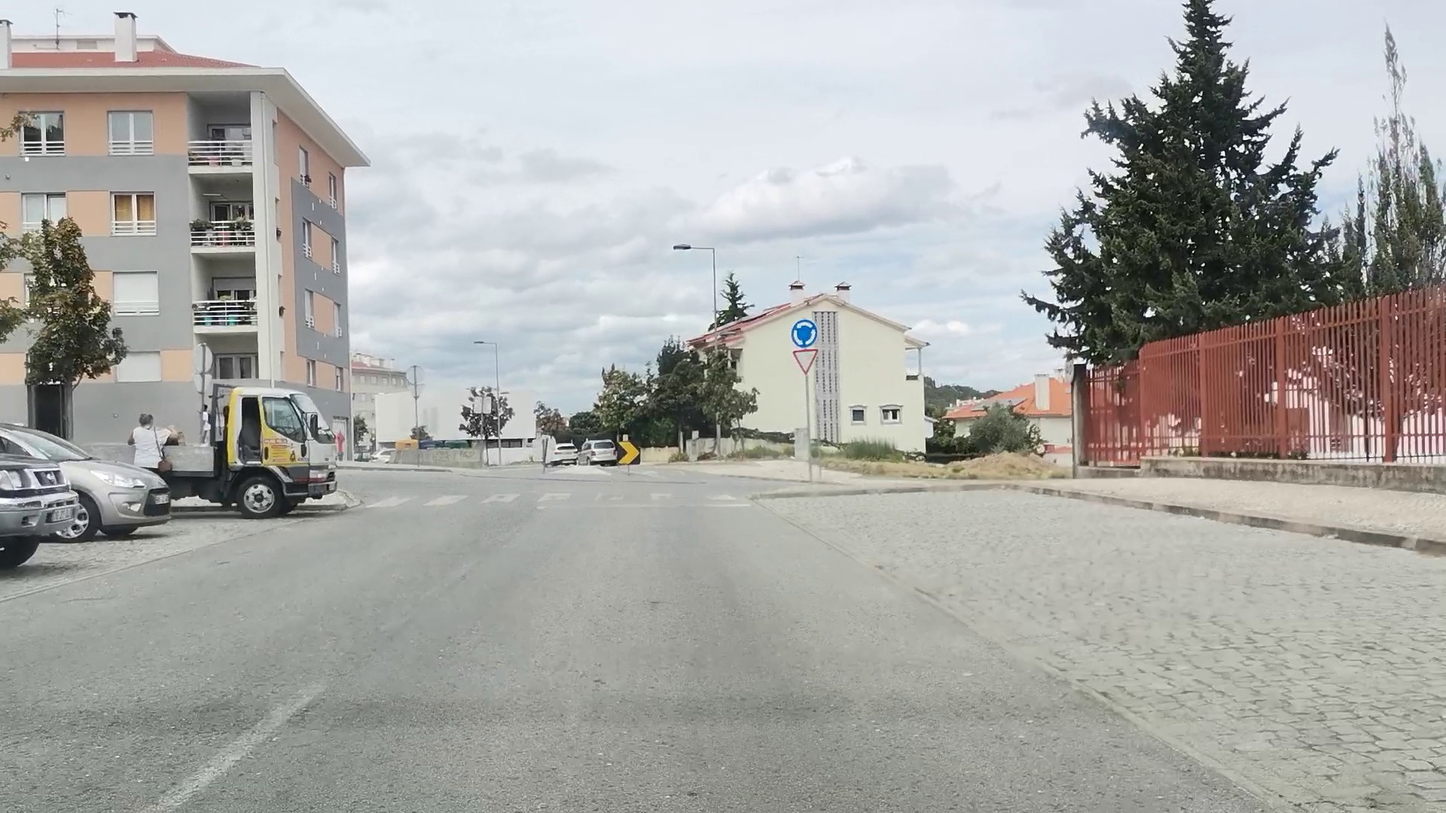Stairs: (363, 489, 748, 511)
